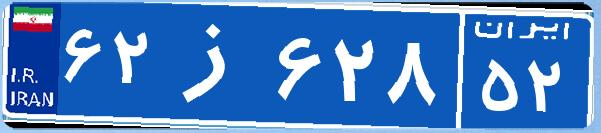2: (330, 28, 385, 110), (110, 28, 158, 105), (525, 38, 570, 115)
5: (475, 38, 525, 113)
6: (273, 28, 330, 110), (57, 26, 110, 107)
8: (385, 28, 445, 110)
ز: (158, 15, 273, 115)
